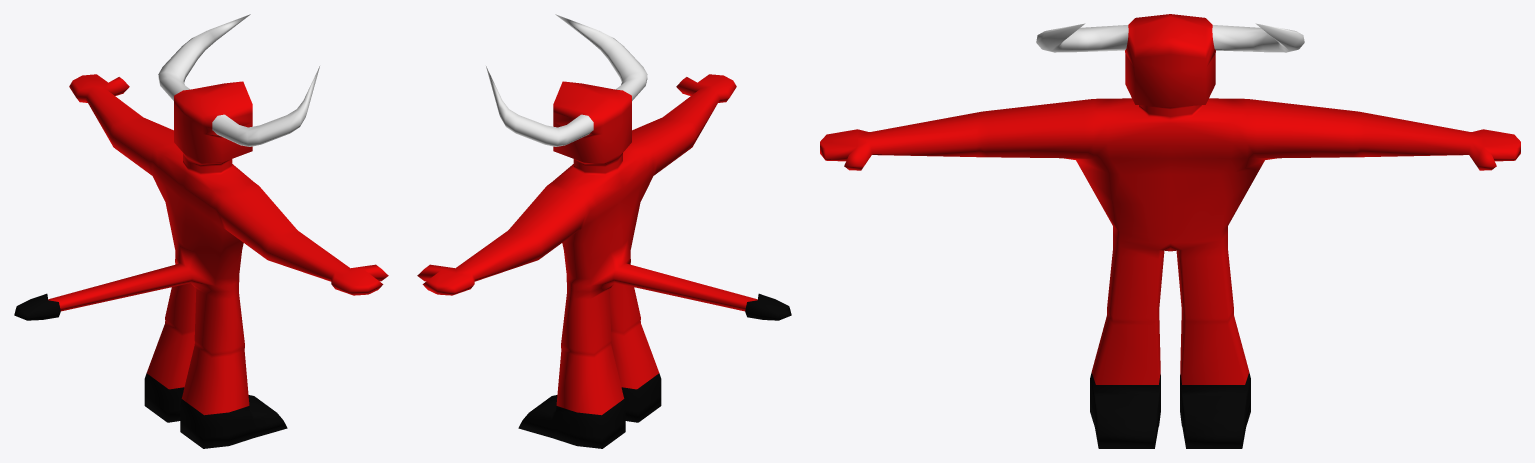
Rendered from Diablo.fbx.
3 renders of one model, left to right at view 1: azimuth 30°, elevation 25°; view 2: azimuth 150°, elevation 25°; view 3: azimuth 270°, elevation 25°, orthographic. The views are drawn at different scales.
Visible parts, largest first — view 1: pasted__personaje_base; view 2: pasted__personaje_base; view 3: pasted__personaje_base.
Boxes of the visible parts, x1,y1,x2,y2 form: pasted__personaje_base: [14, 14, 388, 448]; pasted__personaje_base: [417, 14, 791, 448]; pasted__personaje_base: [820, 14, 1520, 448].
Size of the model in its own units: 12.05 by 15.3 by 21.98.
